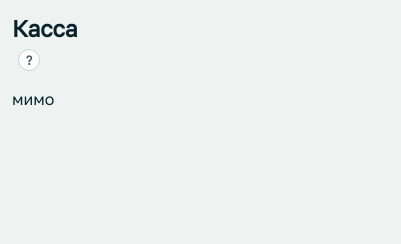
Scenario: «?» закрыта, пока не нажали; текст и ссылка на раздел руководства; Esc и нажатие мимо закрывают
Later steps or results of the test are not shown.
Click the button named "Подсказка: Касса": [29, 60] box x1=18 y1=49 x2=40 y2=71
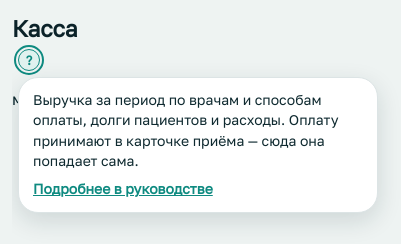
Now the element named "Подсказка: Касса" shows "Выручка за период", box x1=33 y1=91 x2=338 y2=169
Now the button named "Подсказка: Касса" is expanded, box x1=18 y1=49 x2=40 y2=71
